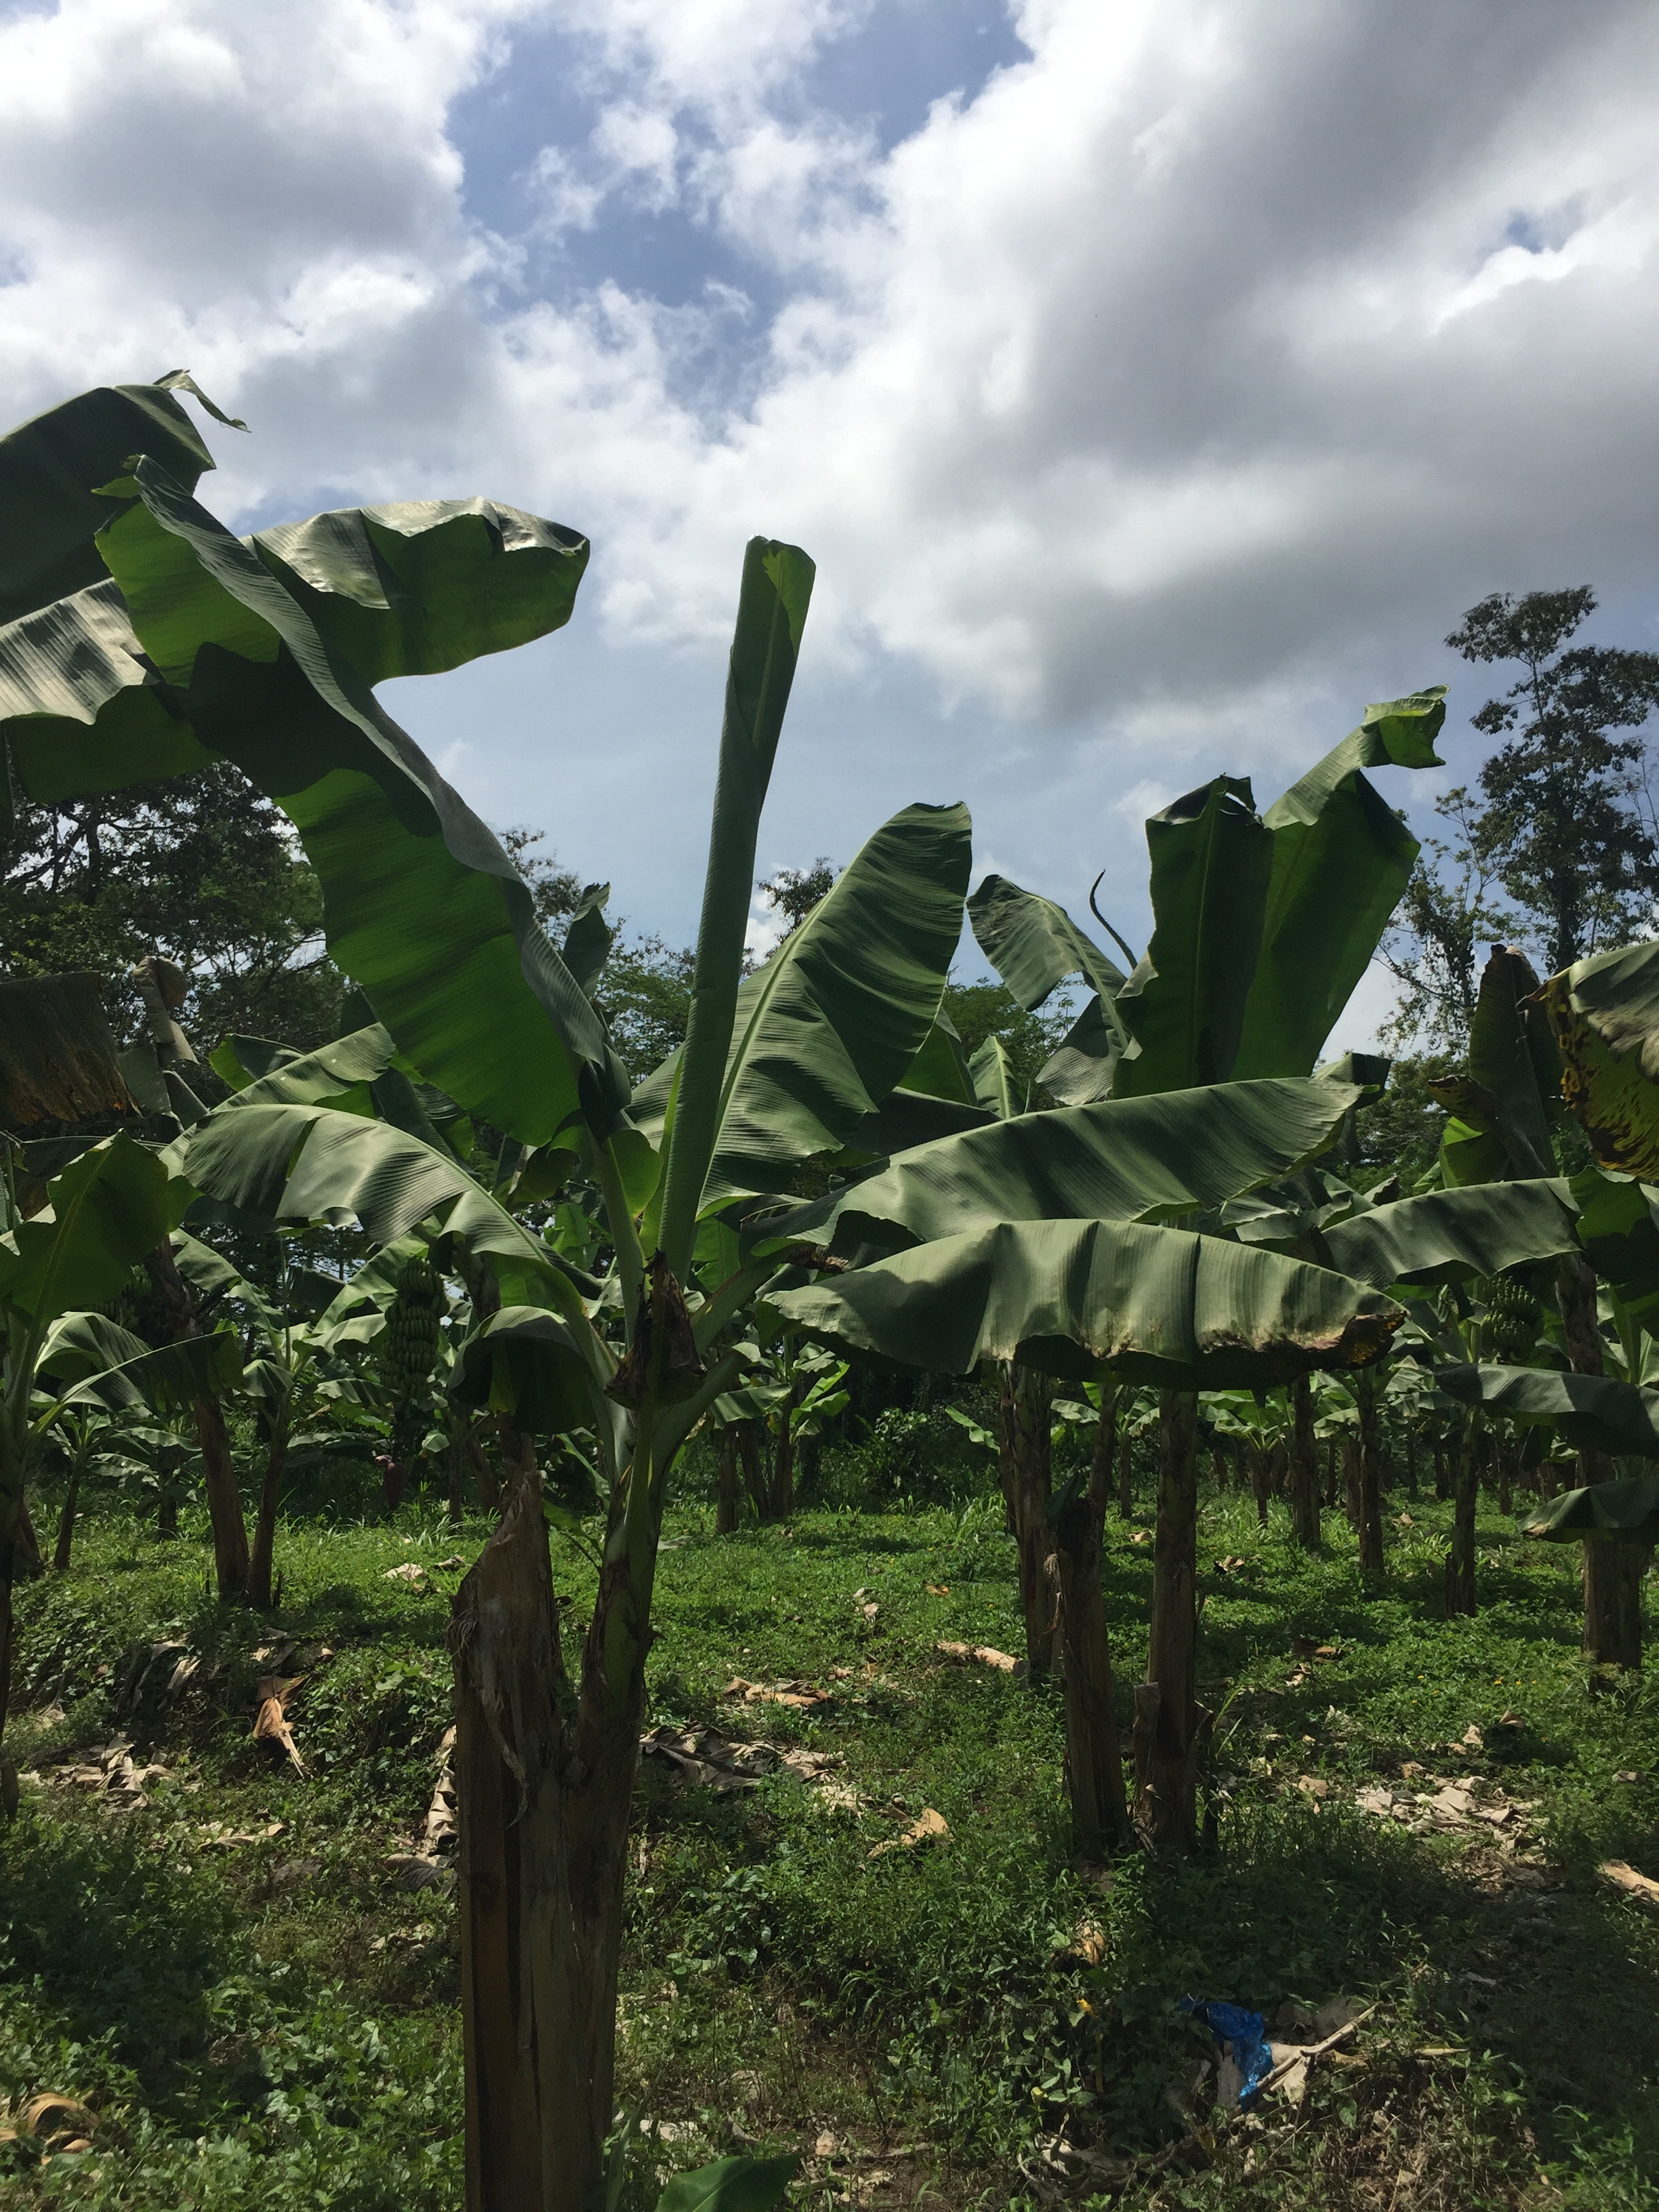candleleafs: (653, 538, 817, 1261), (1089, 867, 1136, 967)
